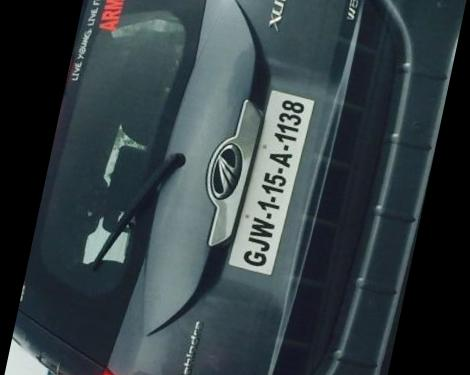plate: (208, 67, 345, 290)
